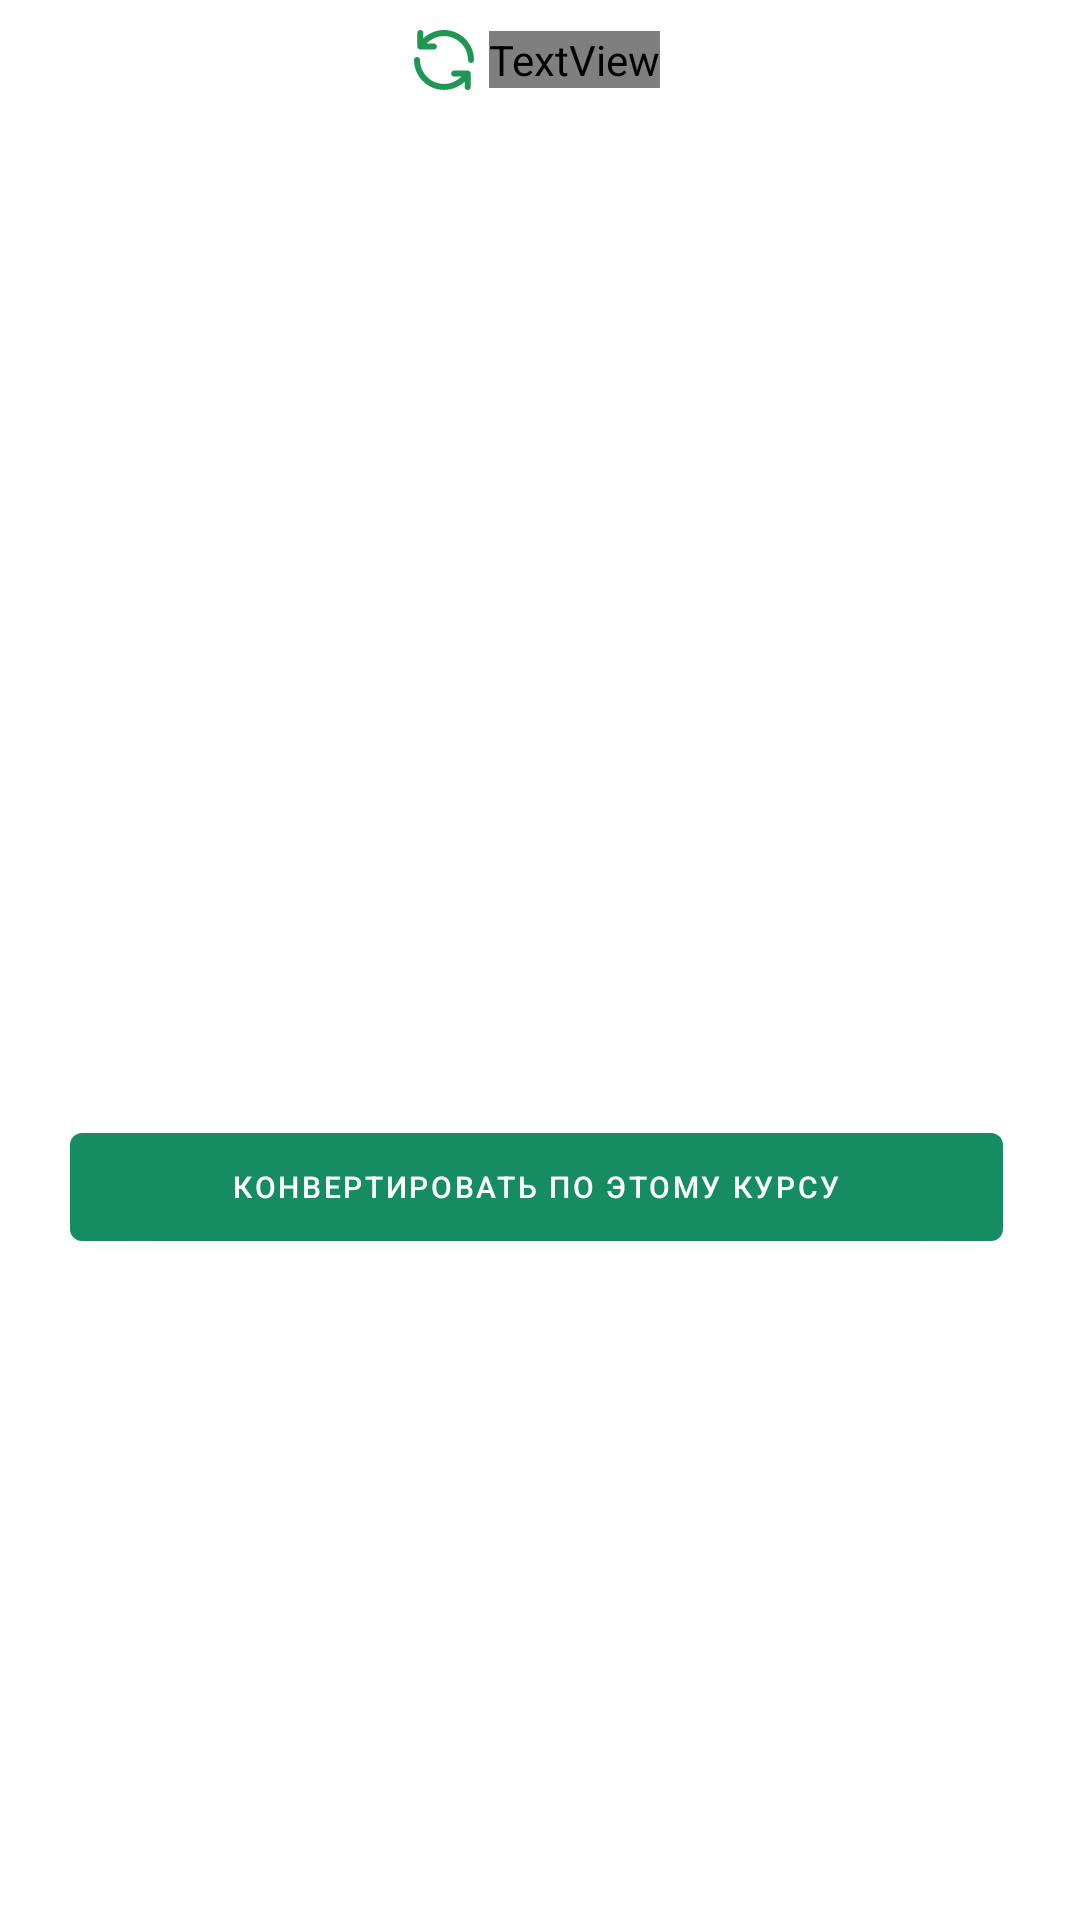

Screen size 1080 x 1920. Icon name, then its box in pixels as (x1, y1, x2, y2):
refresh: (414, 30, 474, 90)
